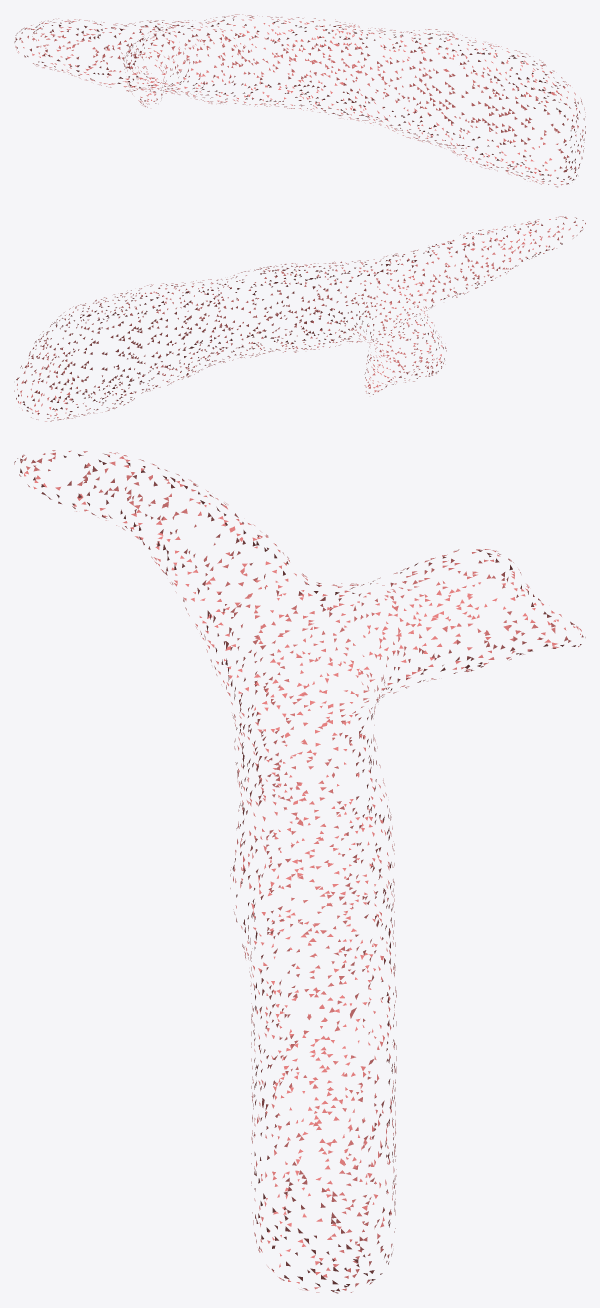
File: morph_000.glb
3 views of the same model, one above another, from view 1: azimuth 30°, elevation 25°; view 2: azimuth 150°, elevation 25°; view 3: azimuth 270°, elevation 25° (orthographic). The views are drawn at different scales.
Bounding box in the file's own units: 121 × 63.03 × 70.44.
